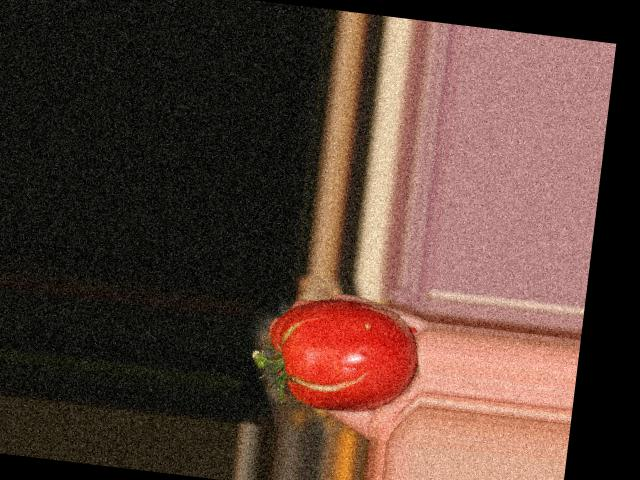tomato: (262, 290, 423, 417)
